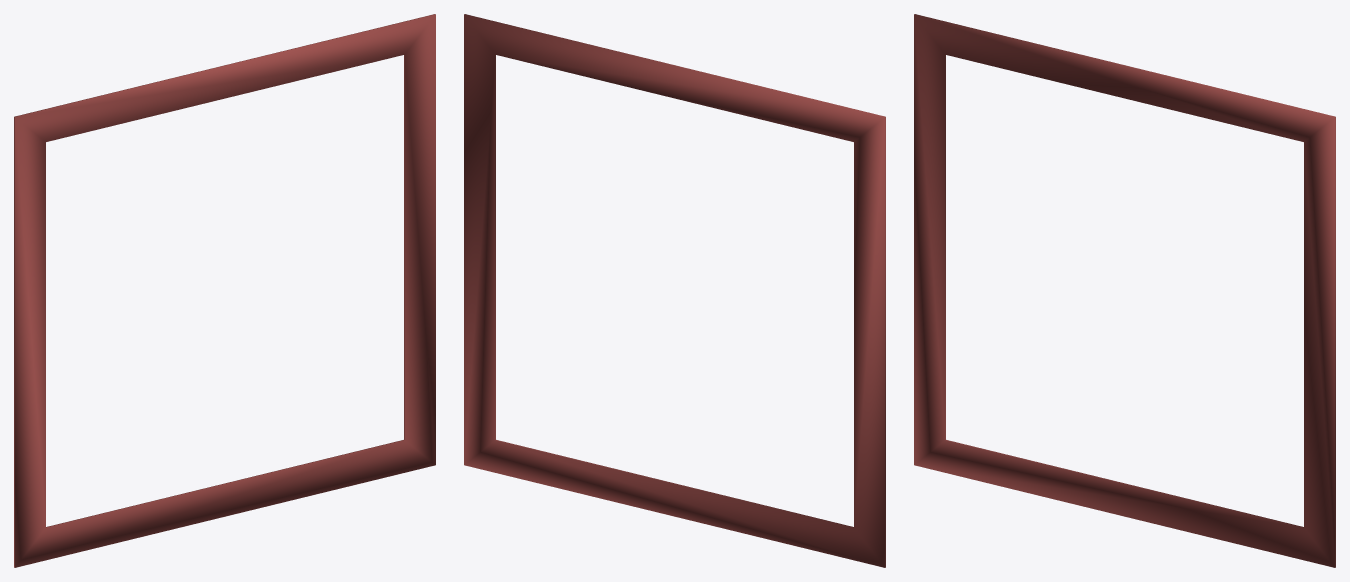
The model's file is deco.obj.
3 views of the same model, side by side, from view 1: azimuth 30°, elevation 25°; view 2: azimuth 150°, elevation 25°; view 3: azimuth 330°, elevation 25° (orthographic).
Visible parts, largest first — view 1: rugSquare.002_rugSquare.003; view 2: rugSquare.002_rugSquare.003; view 3: rugSquare.002_rugSquare.003.
Boxes of the visible parts, left/top/right/bottom form: rugSquare.002_rugSquare.003: left=14, top=14, right=435, bottom=567; rugSquare.002_rugSquare.003: left=464, top=14, right=885, bottom=567; rugSquare.002_rugSquare.003: left=914, top=14, right=1335, bottom=567.
Bounding box in the file's own units: 0.677 × 0.6927 × 0.00187.
